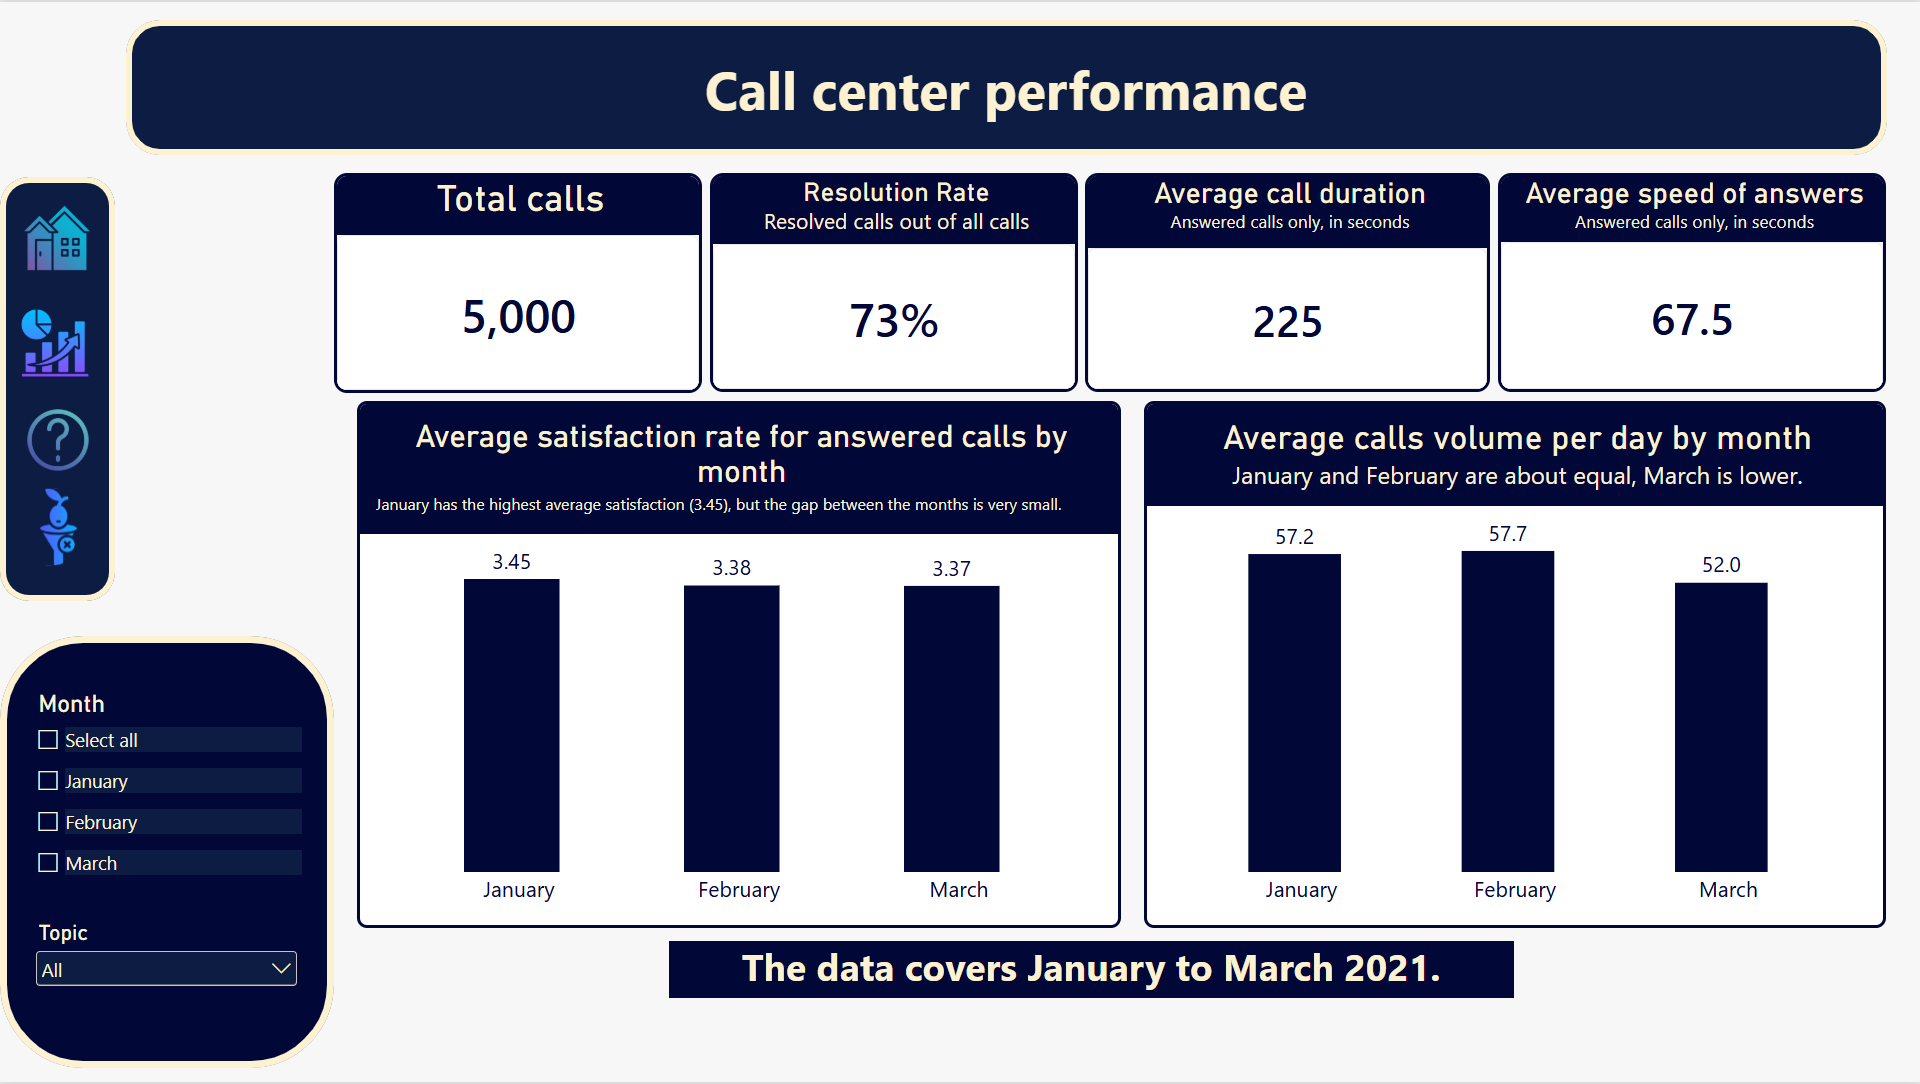

The dashboard page shown, as its layout file describes it:
{"tool":"powerbi","page":{"name":"Overview","canvas":[1920,1080],"ordinal":1},"visuals":[{"type":"shape","box":[125.9,17.7,1760.7,135.7],"z":0},{"type":"shape","box":[0,175.1,114.7,424.4],"z":1000},{"type":"cardVisual","title":"Total calls","fields":{"Data":["CountNonNull(Sheet1.Call Id)"]},"box":[333.7,170.9,368.7,219.9],"z":2000},{"type":"clusteredColumnChart","title":"Average satisfaction rate for answered calls by month","fields":{"Category":["Sheet1.Date.Variation.Date Hierarchy.Month"],"Y":["Sheet1.Avg statsfaction rate"]},"box":[356.9,399.1,764,526.7],"z":3000},{"type":"cardVisual","title":"Average call duration ","fields":{"Data":["Sheet1.Avg talking_in_seconds"]},"box":[1085.2,170.9,405.1,219.1],"z":4000},{"type":"cardVisual","title":"Resolution Rate","fields":{"Data":["Sheet1.Resolution Rate"]},"box":[709.9,170.9,367.9,219.1],"z":5000},{"type":"cardVisual","title":"Average speed of answers ","fields":{"Data":["Sheet1.Speed of answer_in_seconds"]},"box":[1497.8,170.9,388.4,219.3],"z":6000},{"type":"actionButton","box":[15.3,197.5,85.1,74.2],"z":7000},{"type":"actionButton","box":[13.3,302,85.1,74.2],"z":8000},{"type":"actionButton","box":[15.5,398.7,85.1,74.2],"z":9000},{"type":"actionButton","box":[15.5,473.1,85.5,104.4],"z":11000},{"type":"shape","box":[0,634.5,334.2,431.6],"z":12000},{"type":"slicer","fields":{"Values":["Sheet1.Date.Variation.Date Hierarchy.Month"]},"box":[31.2,687.6,270.4,197],"z":13000},{"type":"slicer","fields":{"Values":["Sheet1.Topic"]},"box":[31.2,917.8,270.9,79],"z":14000},{"type":"clusteredColumnChart","title":"Average calls volume per day by month","fields":{"Category":["Sheet1.Date.Variation.Date Hierarchy.Month"],"Y":["Sheet1.Calls_per_days"]},"box":[1144,399.1,741.9,526.7],"z":15000},{"type":"textbox","box":[1770,175,150,424],"z":16000},{"type":"textbox","box":[1770,175,150,424],"z":17000},{"type":"textbox","box":[1770,175,150,424],"z":18000},{"type":"textbox","box":[1770,175,150,424],"z":19000},{"type":"textbox","box":[668.6,938.6,845.7,57.1],"z":20000}]}

Visuals, with their boxes in screenshot pixels (x1, y1, x2, y2), scaled from the page's 1920x1080 canvas onto the 1920x1084 screenshot:
shape: x1=126 y1=18 x2=1887 y2=154
shape: x1=0 y1=176 x2=115 y2=602
"Total calls" cardVisual: x1=334 y1=172 x2=702 y2=392
"Average satisfaction rate for answered calls by month" clusteredColumnChart: x1=357 y1=401 x2=1121 y2=929
"Average call duration " cardVisual: x1=1085 y1=172 x2=1490 y2=391
"Resolution Rate" cardVisual: x1=710 y1=172 x2=1078 y2=391
"Average speed of answers " cardVisual: x1=1498 y1=172 x2=1886 y2=392
actionButton: x1=15 y1=198 x2=100 y2=273
actionButton: x1=13 y1=303 x2=98 y2=378
actionButton: x1=16 y1=400 x2=101 y2=475
actionButton: x1=16 y1=475 x2=101 y2=580
shape: x1=0 y1=637 x2=334 y2=1070
slicer - Sheet1.Date.Variation.Date Hierarchy.Month: x1=31 y1=690 x2=302 y2=888
slicer - Sheet1.Topic: x1=31 y1=921 x2=302 y2=1000
"Average calls volume per day by month" clusteredColumnChart: x1=1144 y1=401 x2=1886 y2=929
textbox: x1=1770 y1=176 x2=1919 y2=601
textbox: x1=1770 y1=176 x2=1919 y2=601
textbox: x1=1770 y1=176 x2=1919 y2=601
textbox: x1=1770 y1=176 x2=1919 y2=601
textbox: x1=669 y1=942 x2=1514 y2=999
